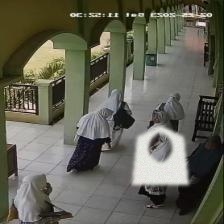Mukena: (131, 125, 189, 184)
